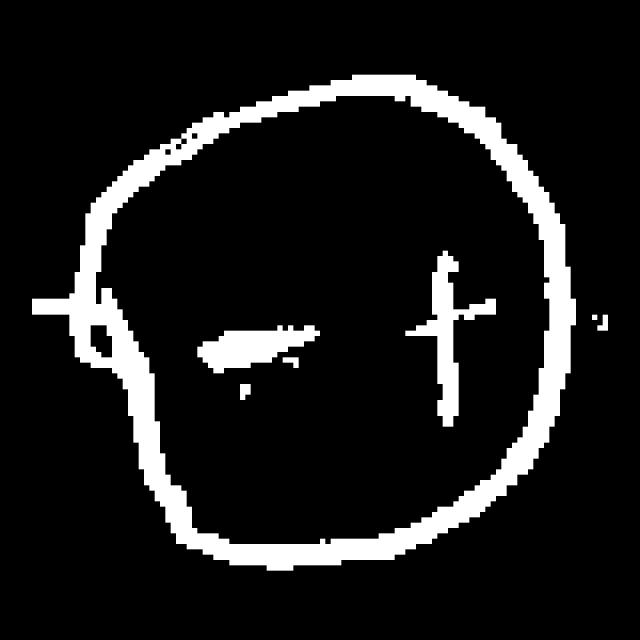voltage_source: (69, 61, 571, 597)
